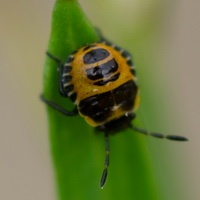insect: (41, 30, 187, 187)
